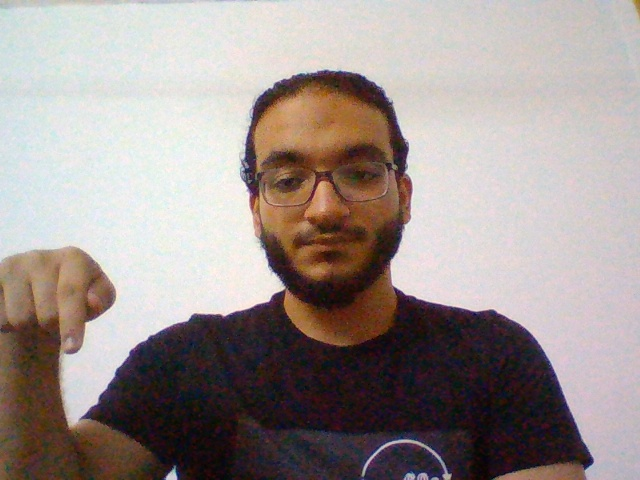Yes: (1, 226, 154, 368)
